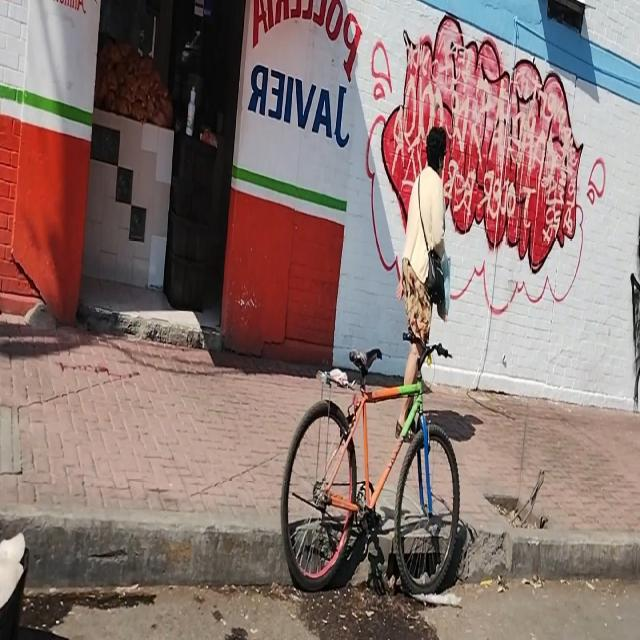adult: (396, 128, 450, 435)
